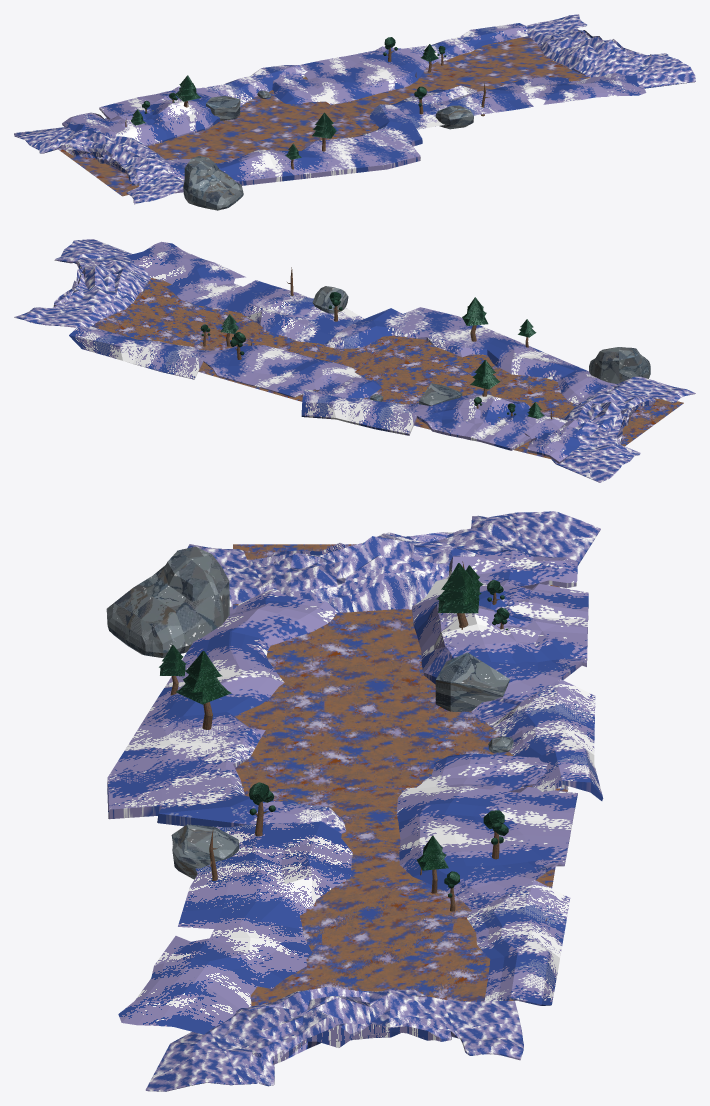
Rendered from escena2.glb.
The picture shows the model from 3 angles, top to bottom: view 1: azimuth 30°, elevation 25°; view 2: azimuth 150°, elevation 25°; view 3: azimuth 270°, elevation 25°; orthographic projection. The views are drawn at different scales.
Visible parts, largest first — view 1: suelo; view 2: suelo; view 3: suelo.
Part boxes in pixels (x1=…): suelo: x1=14, y1=14, x2=695, y2=210; suelo: x1=14, y1=239, x2=695, y2=482; suelo: x1=106, y1=511, x2=603, y2=1091.
Size of the model in its own units: 140 by 14.28 by 51.69.
18 materials, 18 textured.
